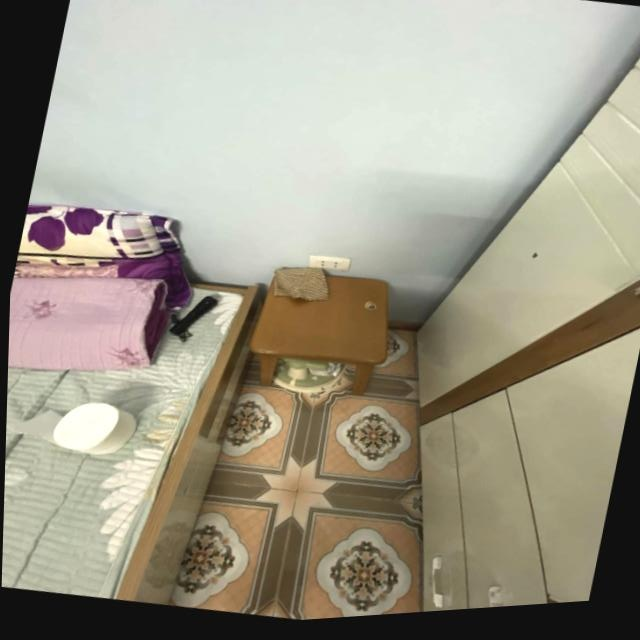outlet: (306, 252, 351, 276)
